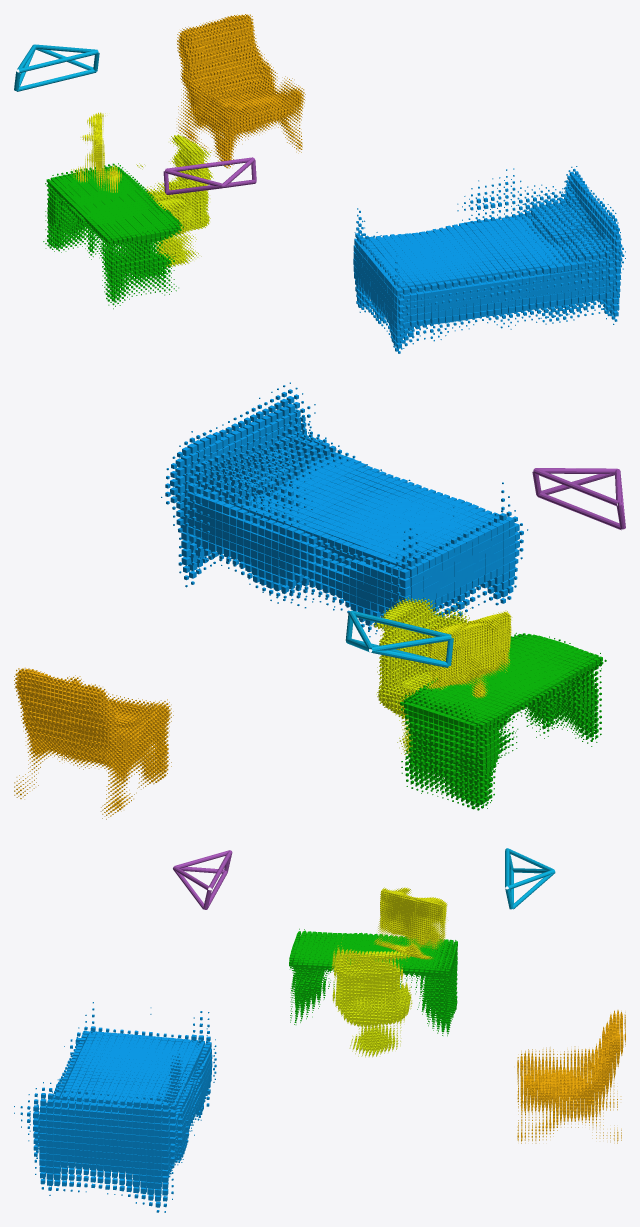
The model's file is Prediction.glb.
3 renders of one model, top to bottom at view 1: azimuth 30°, elevation 25°; view 2: azimuth 150°, elevation 25°; view 3: azimuth 270°, elevation 25°, orthographic. The views are drawn at different scales.
Visible parts, largest first — view 1: Node; view 2: Node; view 3: Node.
Boxes of the visible parts, x1,y1,x2,y2 form: Node: (14,14,625,353); Node: (14,382,625,819); Node: (14,848,625,1212).
Bounding box in the file's own units: 4.11 × 1.78 × 5.43.
